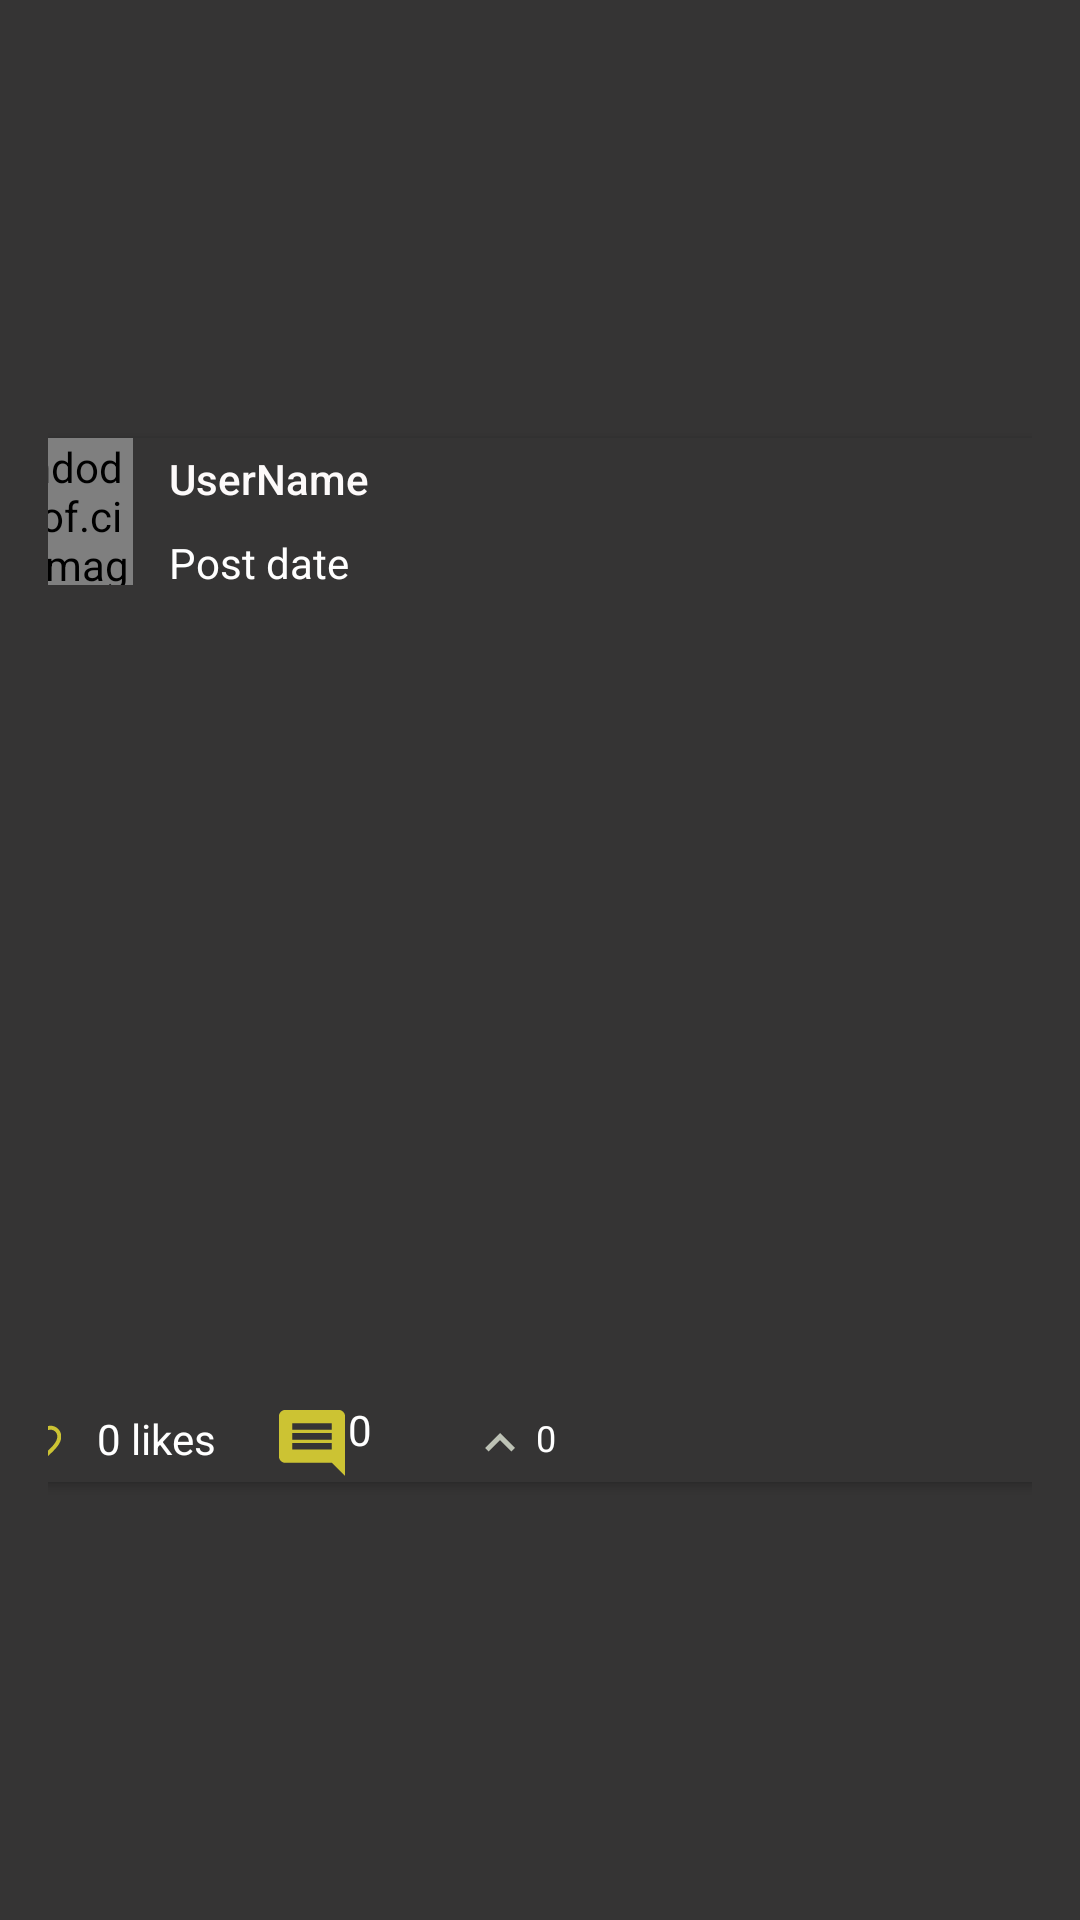

Where to tap for icons on this 1080w x 1920h app screen, as [x,y]:
answer: [312,1443]
